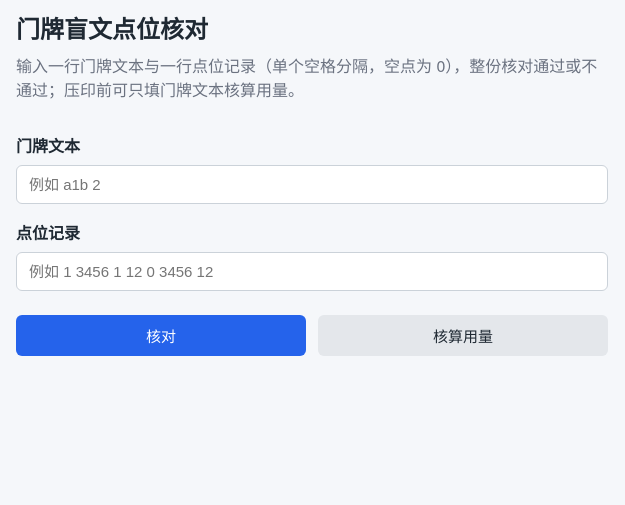
it: App 核算用量 › 普通字母门牌显示四项统计
Type "abc" into the field with test id "text-input" at (312, 184), box [16,165,608,204]
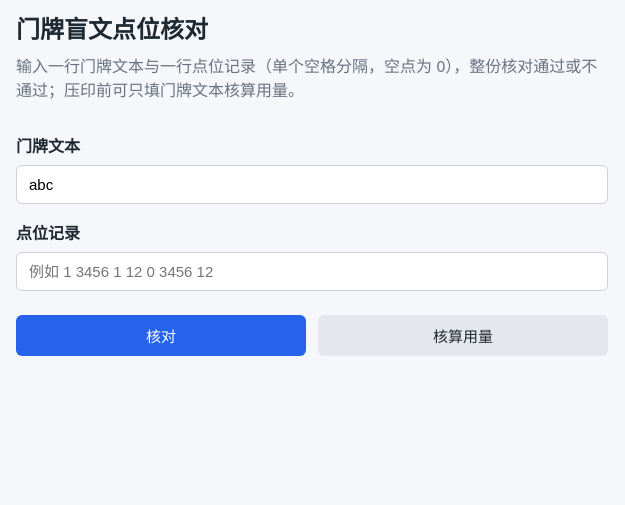
Click the button with test id "usage-submit" at (463, 336), box [318,315,608,356]
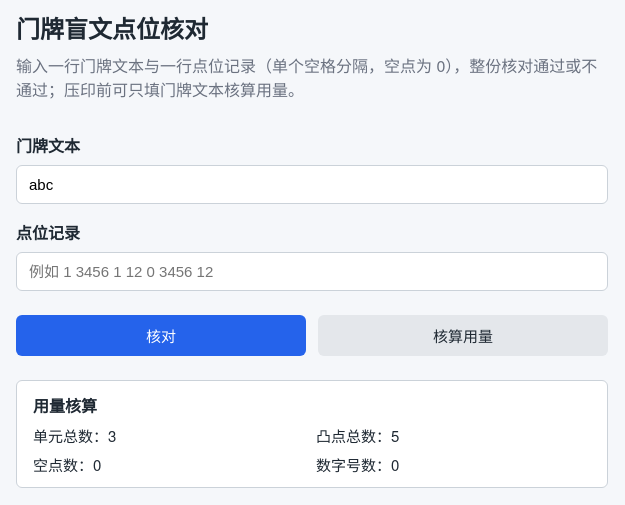
Expected: the list item with test id "usage-cells" reads "单元总数：3", [33,425,116,446]
Expected: the list item with test id "usage-dots" reads "凸点总数：5", [316,425,399,446]
Expected: the list item with test id "usage-empty" reads "空点数：0", [33,454,101,475]
